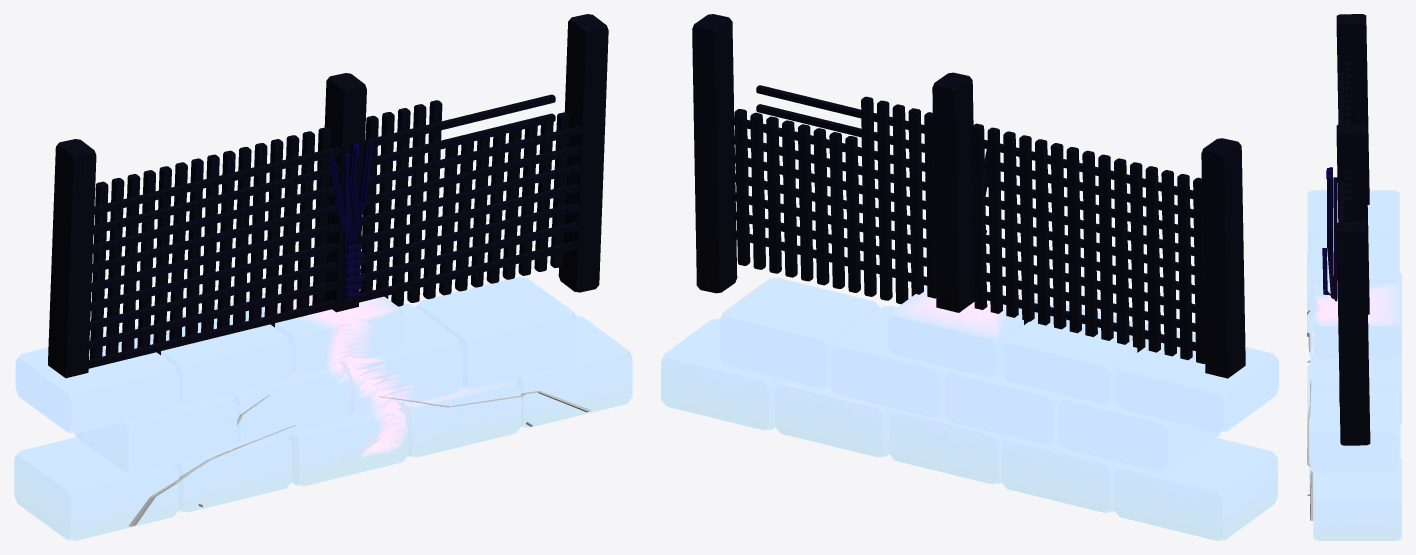
Rendered from cataclysm_fen_wall_struck-lod0.gltf.
3 renders of one model, left to right at view 1: azimuth 30°, elevation 25°; view 2: azimuth 150°, elevation 25°; view 3: azimuth 270°, elevation 25°, orthographic. The views are drawn at different scales.
Parts seen in each view (by area): view 1: cataclysm_fen_wall_struck LOD0 cataclysm_fen_wall_struck, cataclysm_fen_wall_struck LOD0 cataclysm_fen_wall roots atta; view 2: cataclysm_fen_wall_struck LOD0 cataclysm_fen_wall_struck; view 3: cataclysm_fen_wall_struck LOD0 cataclysm_fen_wall_struck, cataclysm_fen_wall_struck LOD0 cataclysm_fen_wall roots atta.
Boxes of the visible parts, <box> form: cataclysm_fen_wall_struck LOD0 cataclysm_fen_wall_struck: <box>14,14,632,540</box>; cataclysm_fen_wall_struck LOD0 cataclysm_fen_wall roots atta: <box>129,390,590,526</box>; cataclysm_fen_wall_struck LOD0 cataclysm_fen_wall_struck: <box>661,14,1278,540</box>; cataclysm_fen_wall_struck LOD0 cataclysm_fen_wall_struck: <box>1307,14,1401,540</box>; cataclysm_fen_wall_struck LOD0 cataclysm_fen_wall roots atta: <box>1307,310,1313,520</box>.
Size of the model in its own units: 2.73 by 1.71 by 0.4792.
